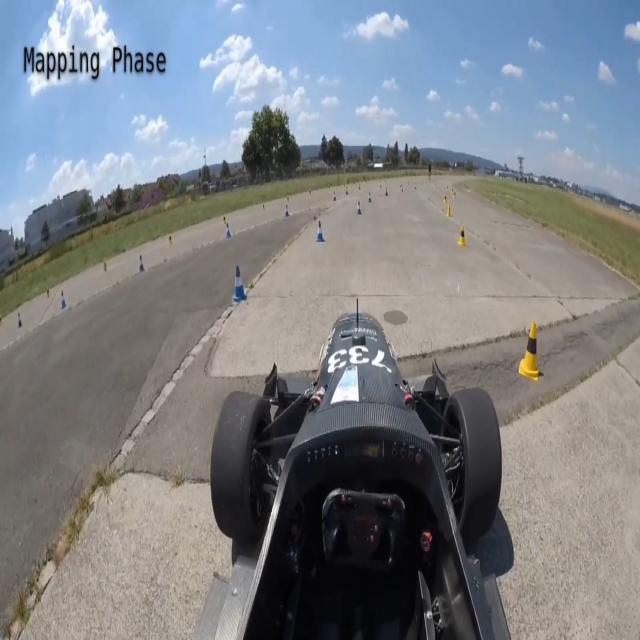blue_cone: (232, 264, 248, 304), (316, 220, 325, 243), (59, 289, 68, 310), (138, 254, 145, 272), (224, 223, 232, 238), (356, 200, 362, 215), (284, 204, 290, 218)
yellow_cone: (518, 318, 542, 382), (458, 222, 467, 247), (447, 203, 451, 217), (443, 193, 448, 204), (453, 190, 456, 200)
